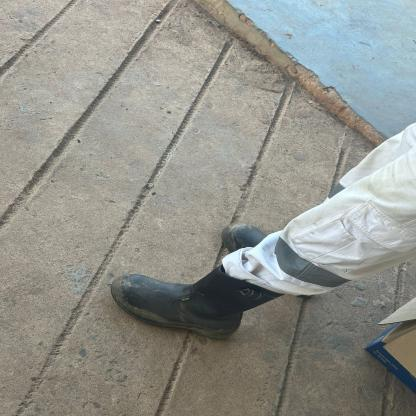bota: (109, 272, 275, 346), (225, 220, 275, 255)
